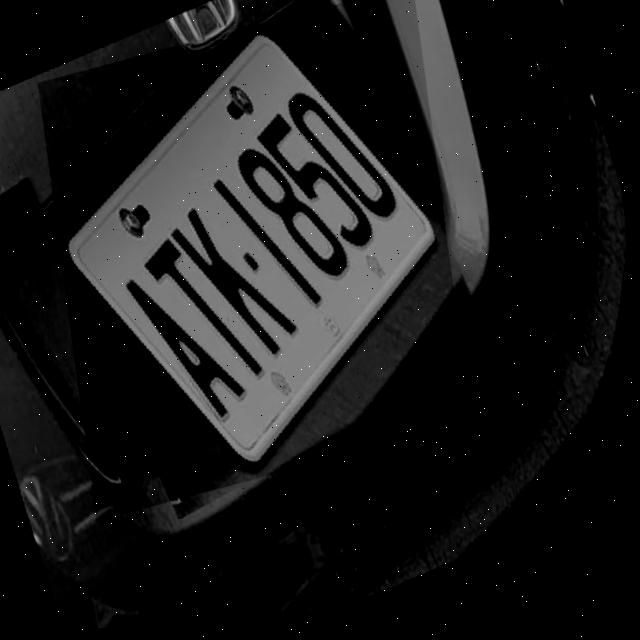LicensePlate: (63, 28, 449, 484)
